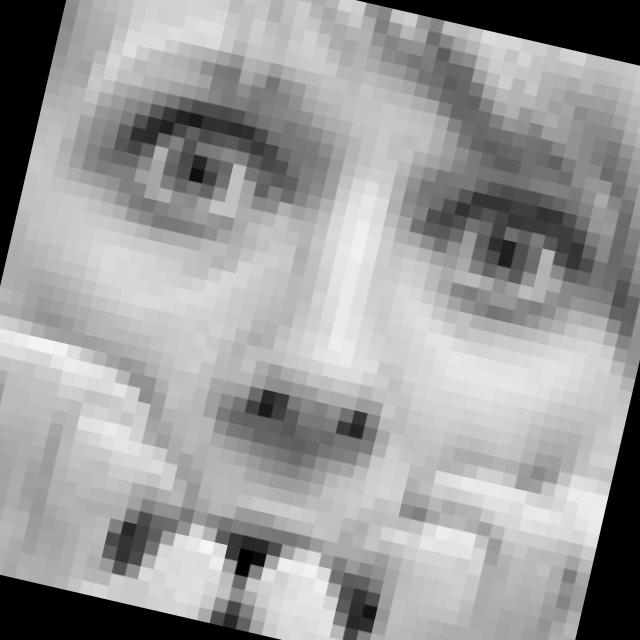fear: (0, 33, 619, 640)
